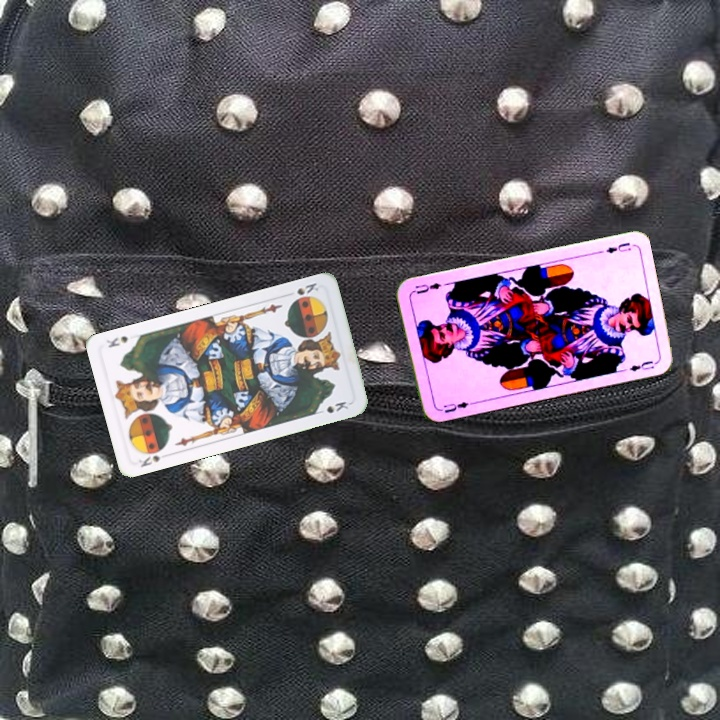EU: (434, 398, 475, 415), (602, 238, 634, 256)
SK: (135, 443, 172, 470), (293, 279, 321, 298)
